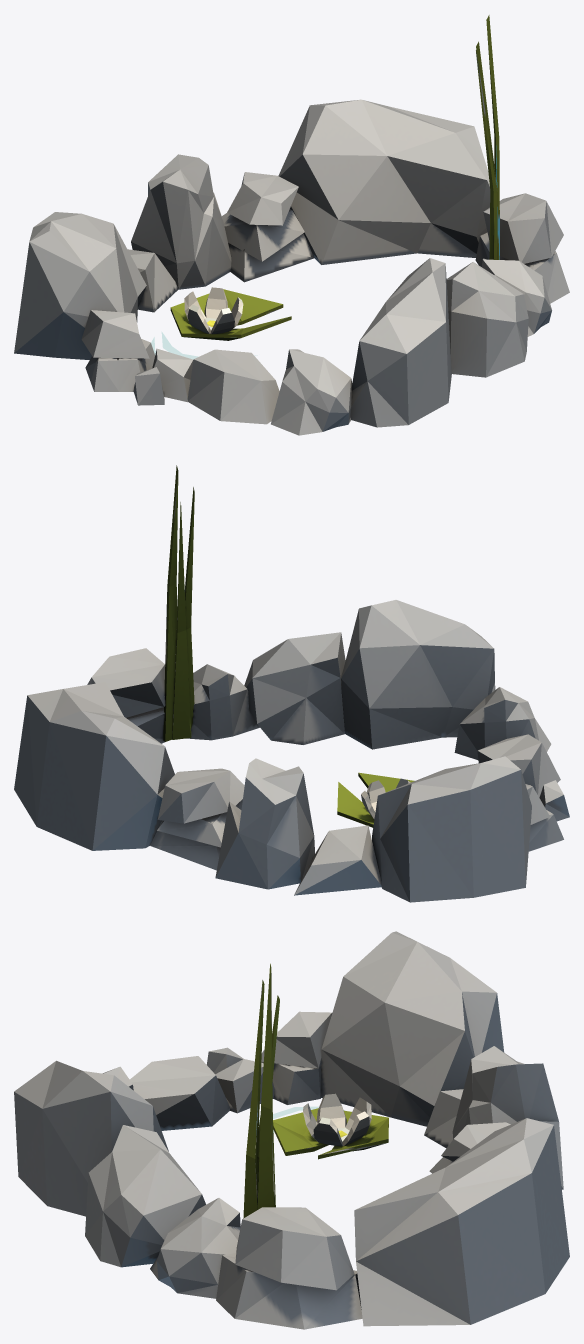
The model's file is pond.glb.
3 renders of one model, top to bottom at view 1: azimuth 30°, elevation 25°; view 2: azimuth 150°, elevation 25°; view 3: azimuth 270°, elevation 25°, orthographic. The views are drawn at different scales.
Visible parts, largest first — view 1: pond; view 2: pond; view 3: pond.
Part boxes in pixels (bbox=[...]): pond: bbox=[14, 15, 569, 435]; pond: bbox=[14, 465, 569, 902]; pond: bbox=[14, 931, 569, 1329].
Size of the model in its own units: 8.61 by 4.66 by 7.34.
Materials: 1 (1 with a texture image).
